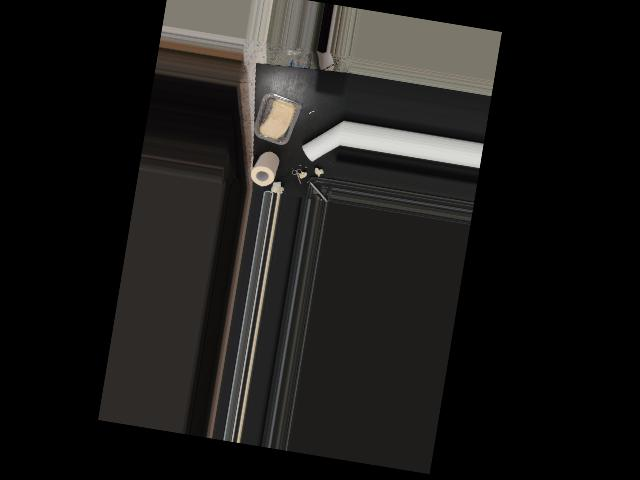cheese: (255, 91, 301, 147)
